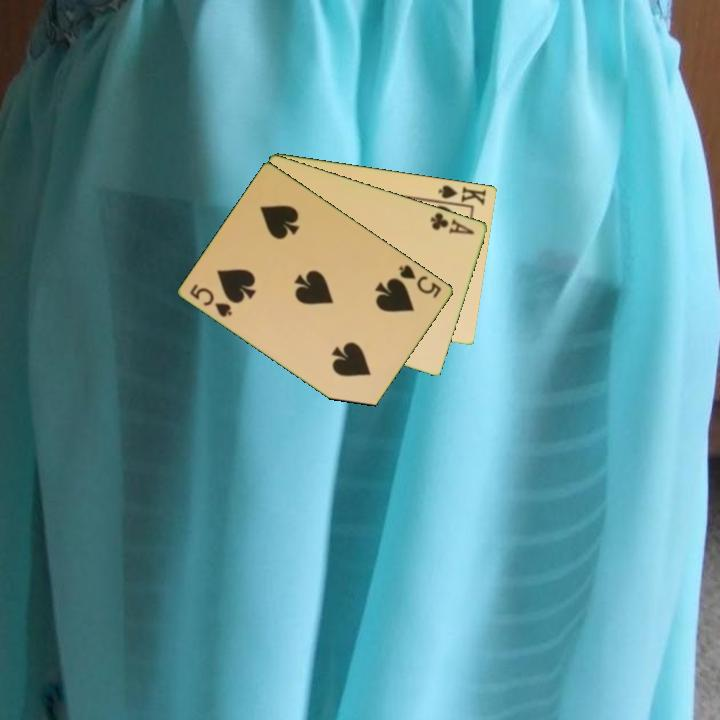5s: (186, 280, 236, 320), (396, 261, 445, 301)
Ac: (427, 209, 477, 237)
Ks: (433, 181, 489, 209)
